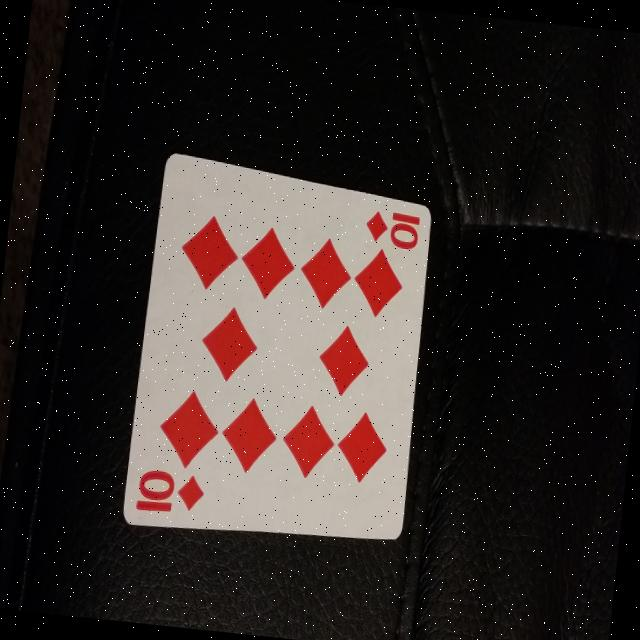10d: (130, 456, 212, 524), (356, 197, 429, 264)
